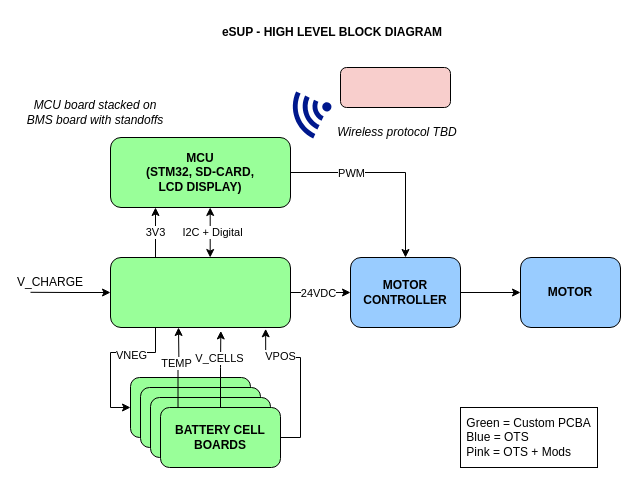
This 638x485 diagram has some shape labels left out. Each missing label, with the centre of its shape:
BMS + CHARGER: the point at 200,292
HAND CONTROLLER: the point at 395,87
